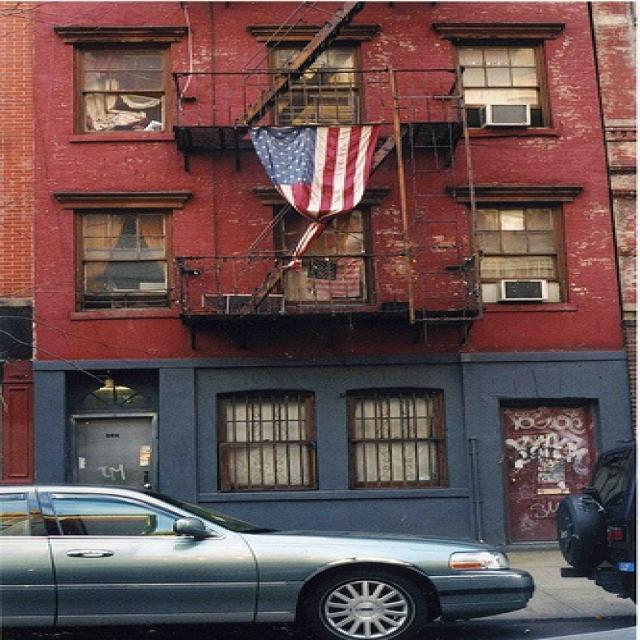car: (2, 484, 536, 637), (556, 446, 638, 606)
